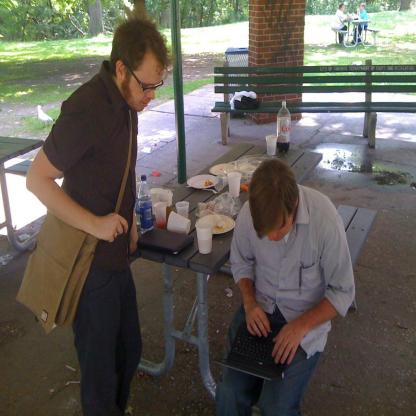board: (214, 297, 302, 399), (136, 228, 193, 256), (136, 172, 154, 232), (276, 101, 291, 152), (196, 219, 214, 255), (165, 211, 192, 235), (154, 202, 167, 227), (159, 190, 173, 213), (229, 172, 241, 197), (176, 200, 189, 219), (266, 137, 277, 157), (214, 176, 228, 189)
